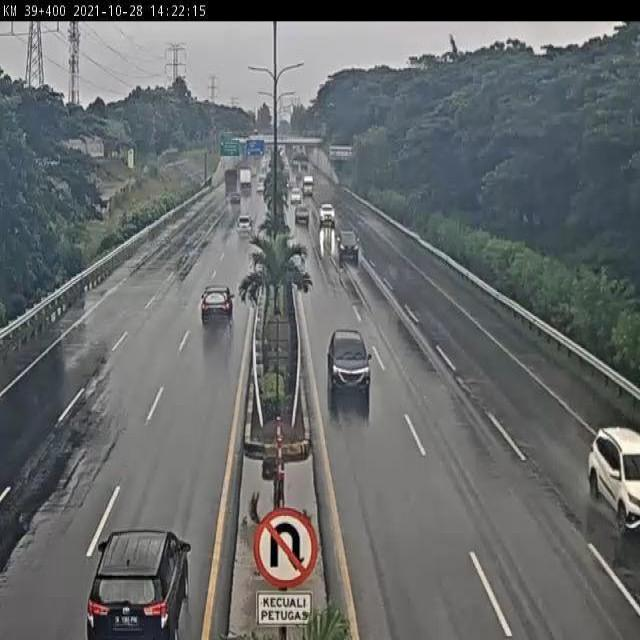car: (86, 528, 196, 640), (327, 324, 372, 397), (199, 282, 235, 330), (336, 228, 360, 260), (233, 218, 254, 242), (319, 203, 338, 228), (293, 204, 311, 228), (228, 188, 241, 207)
